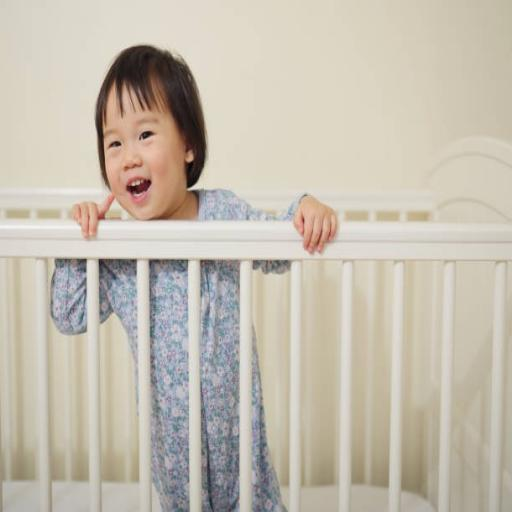baby: (74, 46, 270, 236)
crib: (0, 139, 511, 511)
